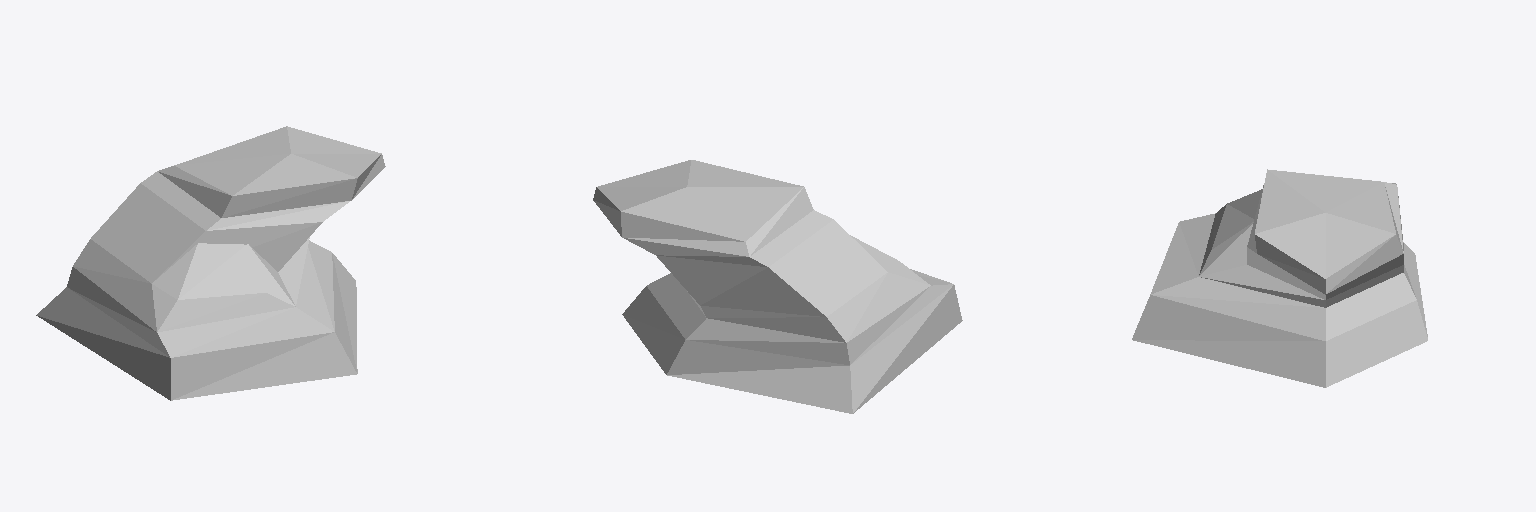
Rendered from bigRock1.obj.
The picture shows the model from 3 angles: view 1: azimuth 30°, elevation 25°; view 2: azimuth 150°, elevation 25°; view 3: azimuth 270°, elevation 25°; orthographic projection.
Parts seen in each view (by area): view 1: pCylinder1; view 2: pCylinder1; view 3: pCylinder1.
Boxes of the visible parts, box(x1,y1,x2,y2) form: pCylinder1: box(36, 126, 385, 400); pCylinder1: box(593, 160, 962, 413); pCylinder1: box(1132, 169, 1427, 387).
Bounding box in the file's own units: 5.26 × 2.37 × 4.44.